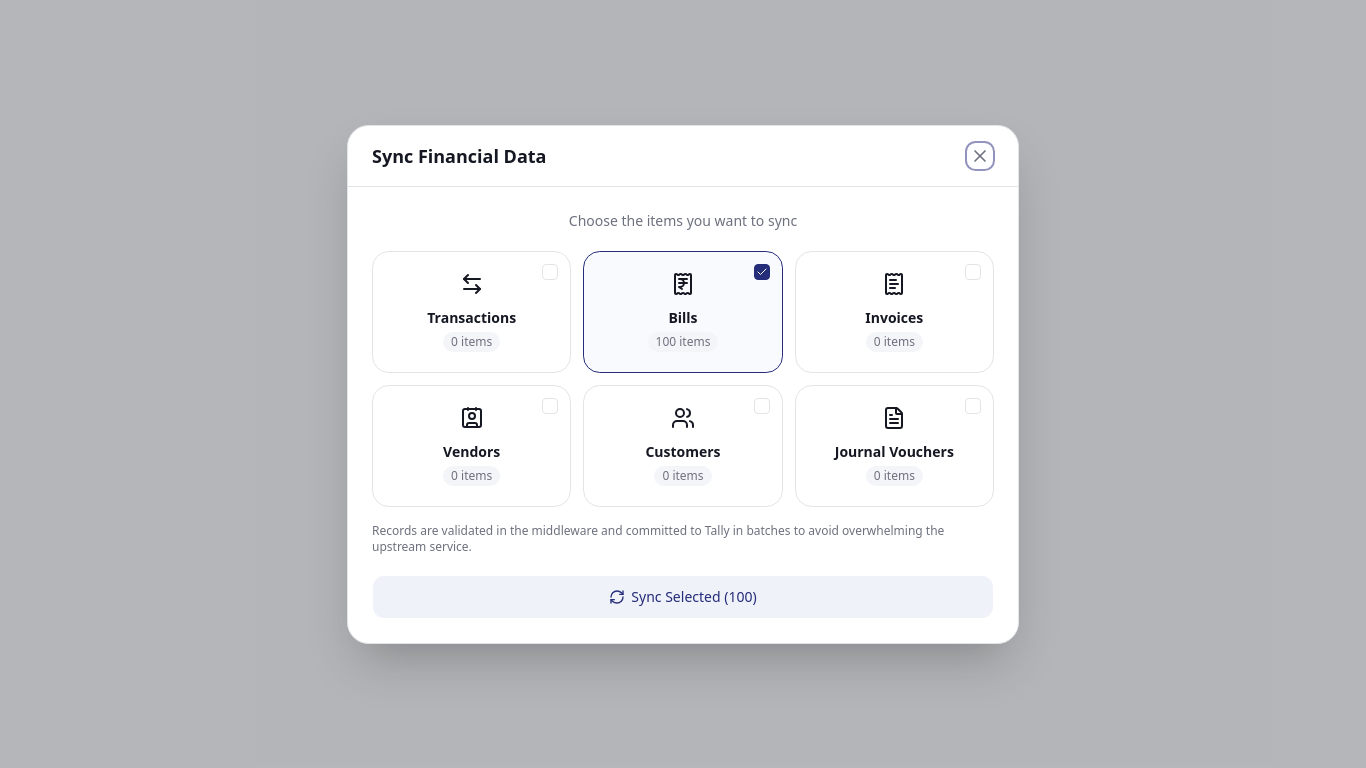
Test case: SyncModal › shows committed vouchers and per-item validation errors when writes are enabled
Click the button "Sync Selected (100)" at (683, 596), box x1=372 y1=574 x2=994 y2=618
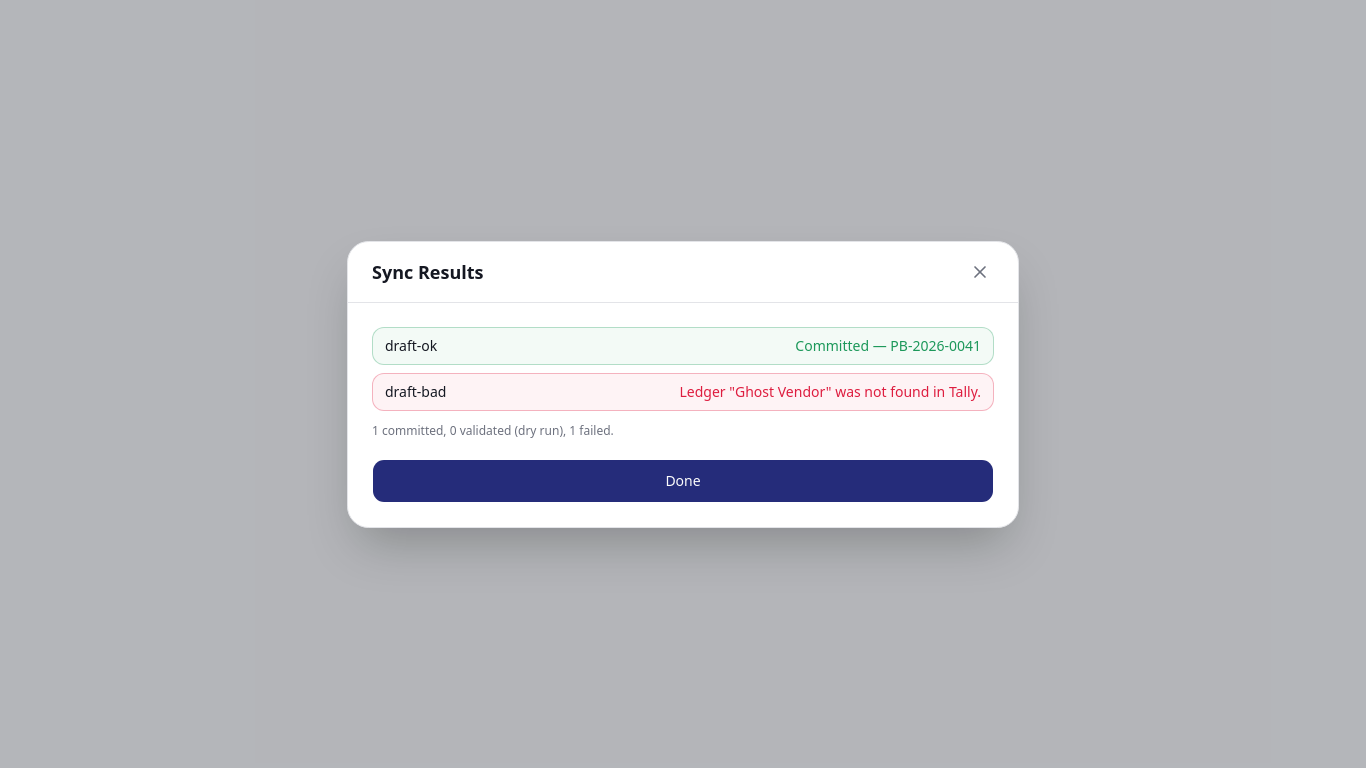
expect the heading "Sync Results" is shown: met, box x1=372 y1=258 x2=484 y2=286
expect the text "Committed — PB-2026-0041" is shown: met, box x1=795 y1=336 x2=981 y2=356
expect the text "Ledger \"Ghost Vendor\" was not found in Tally." is shown: met, box x1=680 y1=382 x2=981 y2=402
